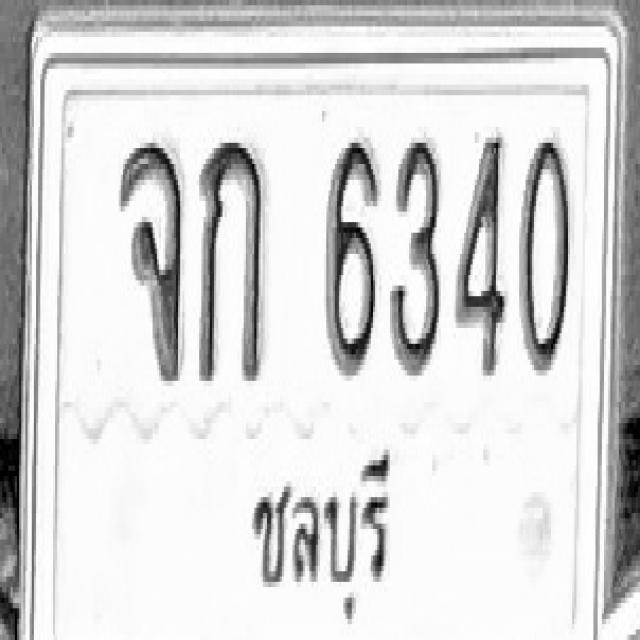0: (519, 132, 570, 370)
10GorGai: (198, 137, 266, 381)
17ChorChan: (118, 137, 183, 381)
3: (390, 135, 441, 373)
4: (456, 132, 506, 376)
6: (326, 137, 378, 376)
Chonburi: (247, 428, 408, 628)
